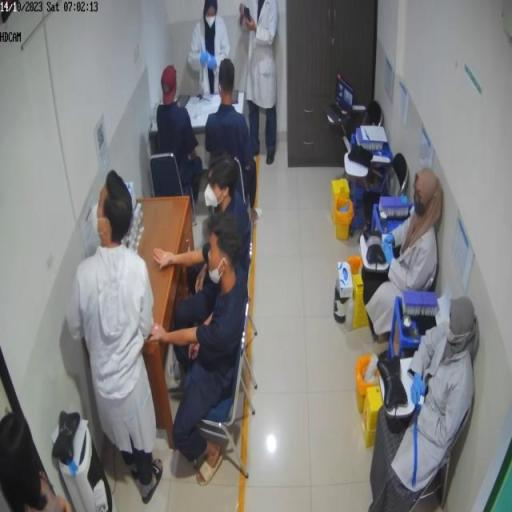person: (66, 170, 164, 504), (152, 218, 248, 487), (367, 297, 481, 512), (155, 152, 252, 380), (362, 169, 443, 351), (206, 59, 262, 226), (157, 65, 203, 228), (239, 1, 280, 167), (189, 2, 231, 95)
